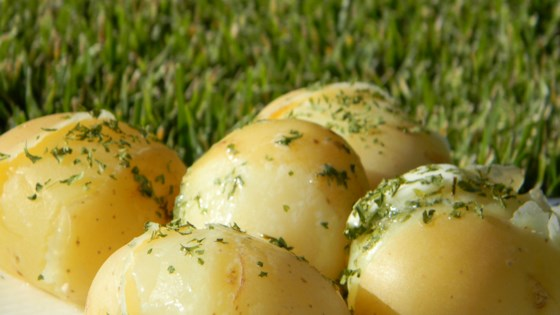boiled potatoes: (4, 107, 190, 304), (348, 159, 560, 309), (175, 120, 372, 277), (81, 216, 347, 315), (250, 78, 454, 196)
